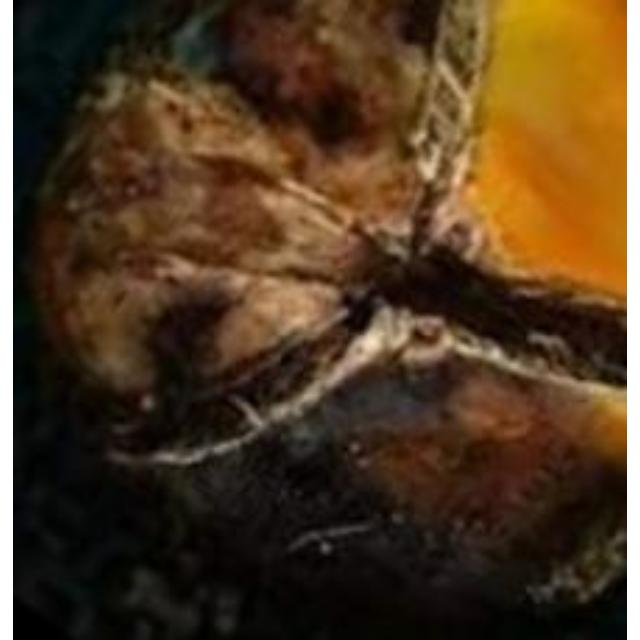damaged: (13, 0, 625, 637)
